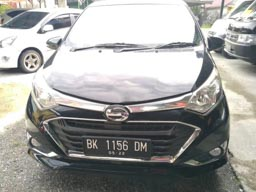plat: (82, 137, 151, 151)
